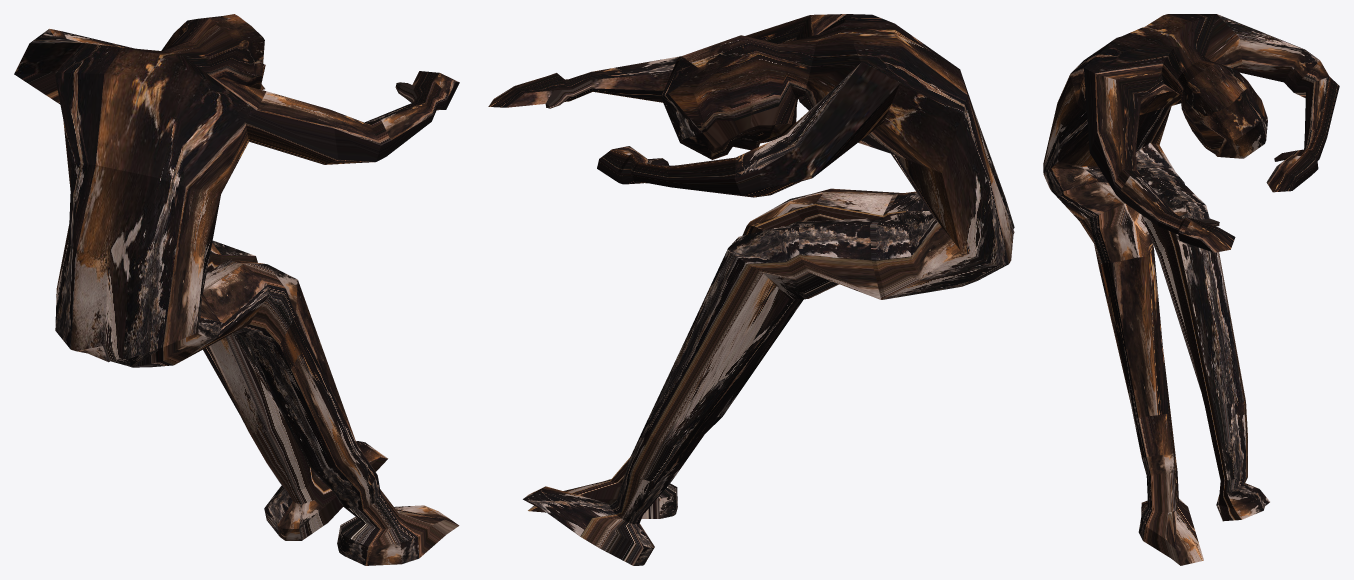
Rendered from ShadowsOfOurMoonDeadguy 1.fbx.
3 renders of one model, left to right at view 1: azimuth 30°, elevation 25°; view 2: azimuth 150°, elevation 25°; view 3: azimuth 270°, elevation 25°, orthographic. The views are drawn at different scales.
Parts seen in each view (by area): view 1: Deadguy; view 2: Deadguy; view 3: Deadguy.
Part boxes in pixels (x1=…): Deadguy: x1=14, y1=14, x2=459, y2=565; Deadguy: x1=488, y1=14, x2=1014, y2=565; Deadguy: x1=1043, y1=14, x2=1339, y2=565.
Size of the model in its own units: 118 by 138 by 87.01.
